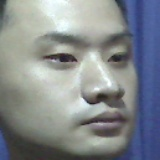face_mask: (57, 0, 160, 104)
